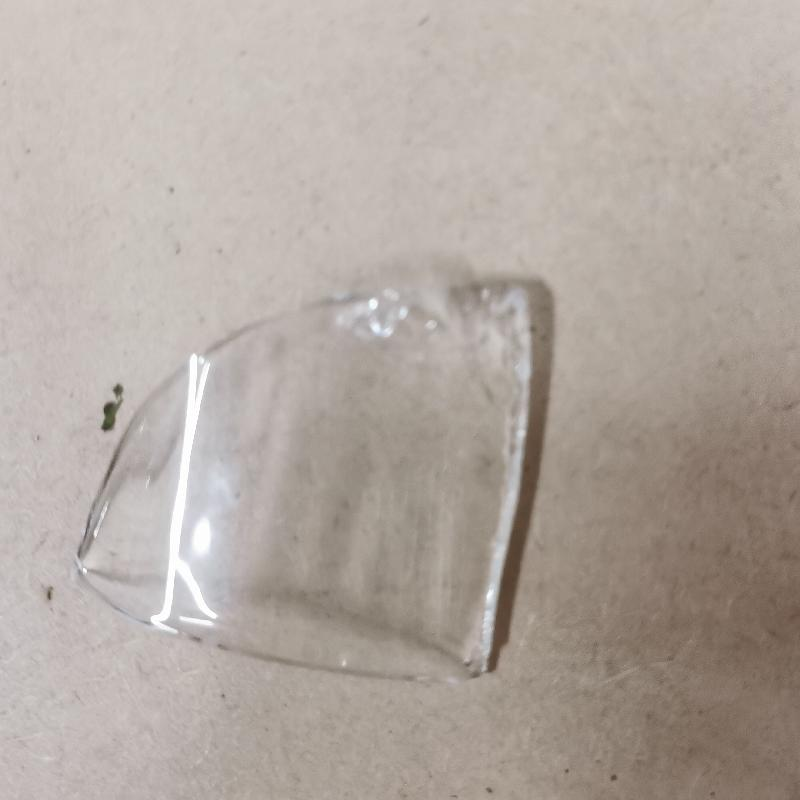glass: (66, 277, 543, 681)
